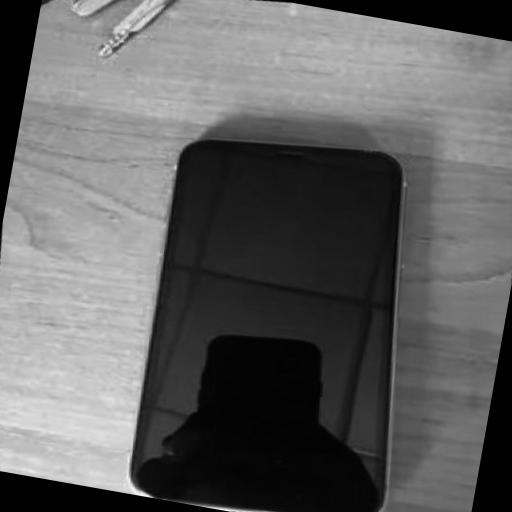phone: (122, 128, 407, 512)
